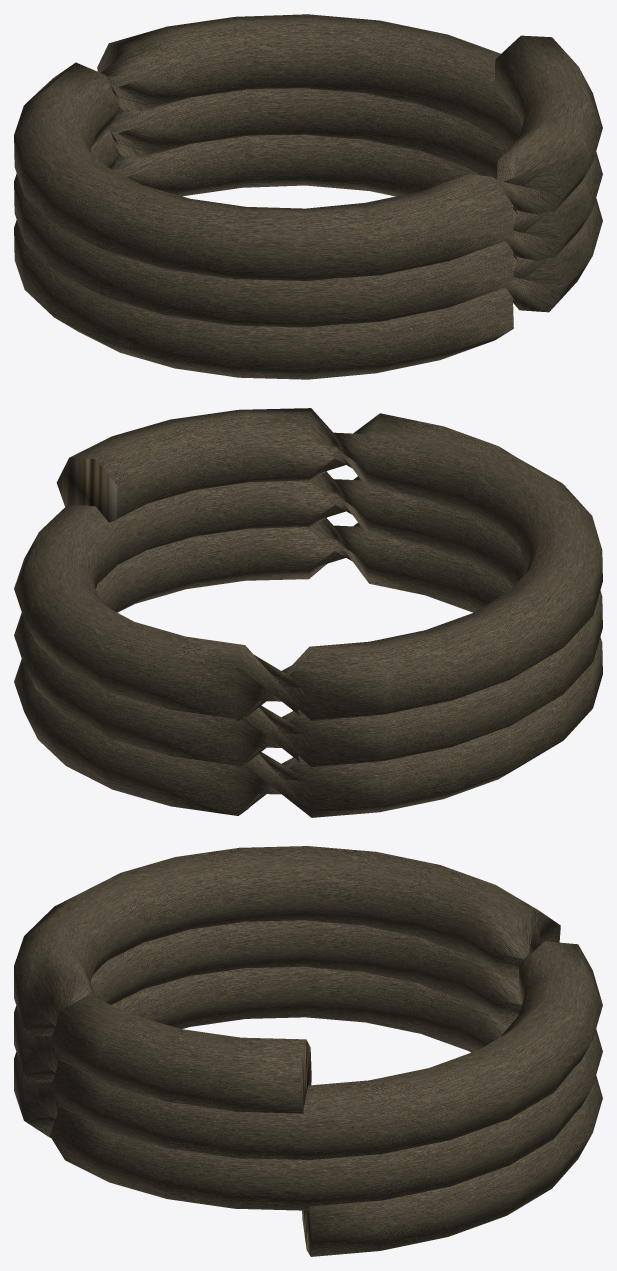
Rendered from SM_Item_rope.gltf.
The picture shows the model from 3 angles, top to bottom: view 1: azimuth 30°, elevation 25°; view 2: azimuth 150°, elevation 25°; view 3: azimuth 270°, elevation 25°; orthographic projection.
Visible parts, largest first — view 1: SM_Item_rope; view 2: SM_Item_rope; view 3: SM_Item_rope.
Part boxes in pixels (x1,y1,x2,y2): SM_Item_rope: [14, 14, 602, 379]; SM_Item_rope: [14, 408, 602, 817]; SM_Item_rope: [14, 846, 602, 1256].
Bounding box in the file's own units: 0.1609 × 0.0635 × 0.1609.
1 material, 1 textured.
